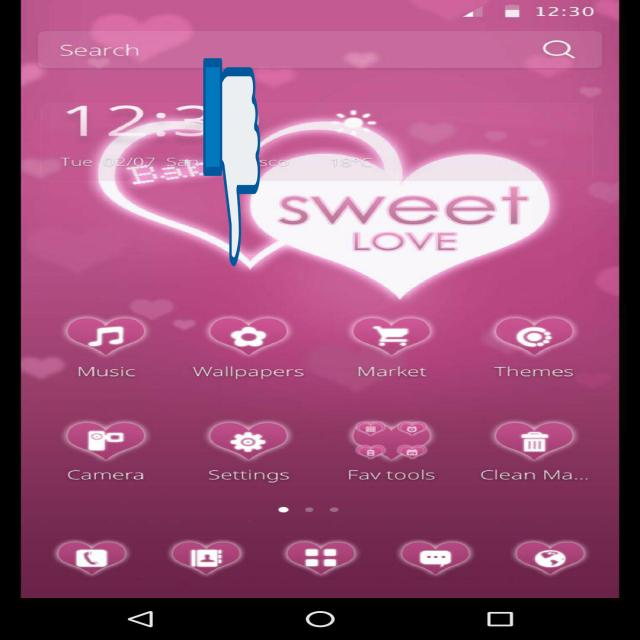obstruction: (203, 54, 260, 271)
